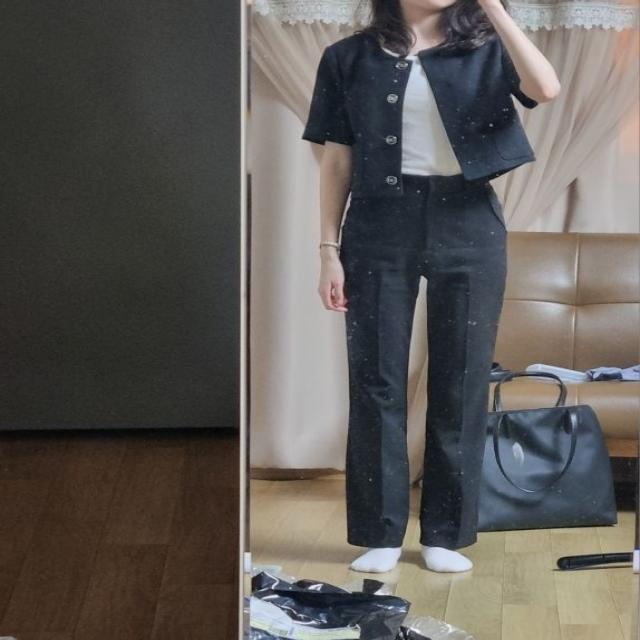blazer: (301, 26, 536, 192)
slacks: (338, 175, 499, 551)
